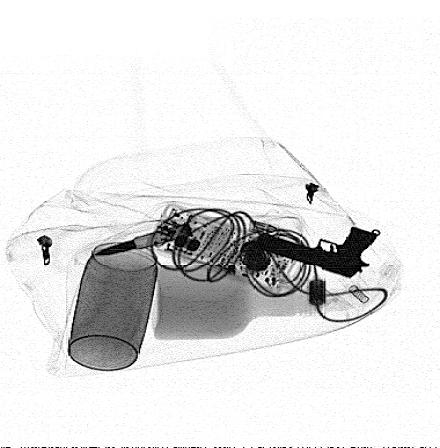Bullet: (94, 224, 194, 256)
Gun: (252, 227, 380, 278)
